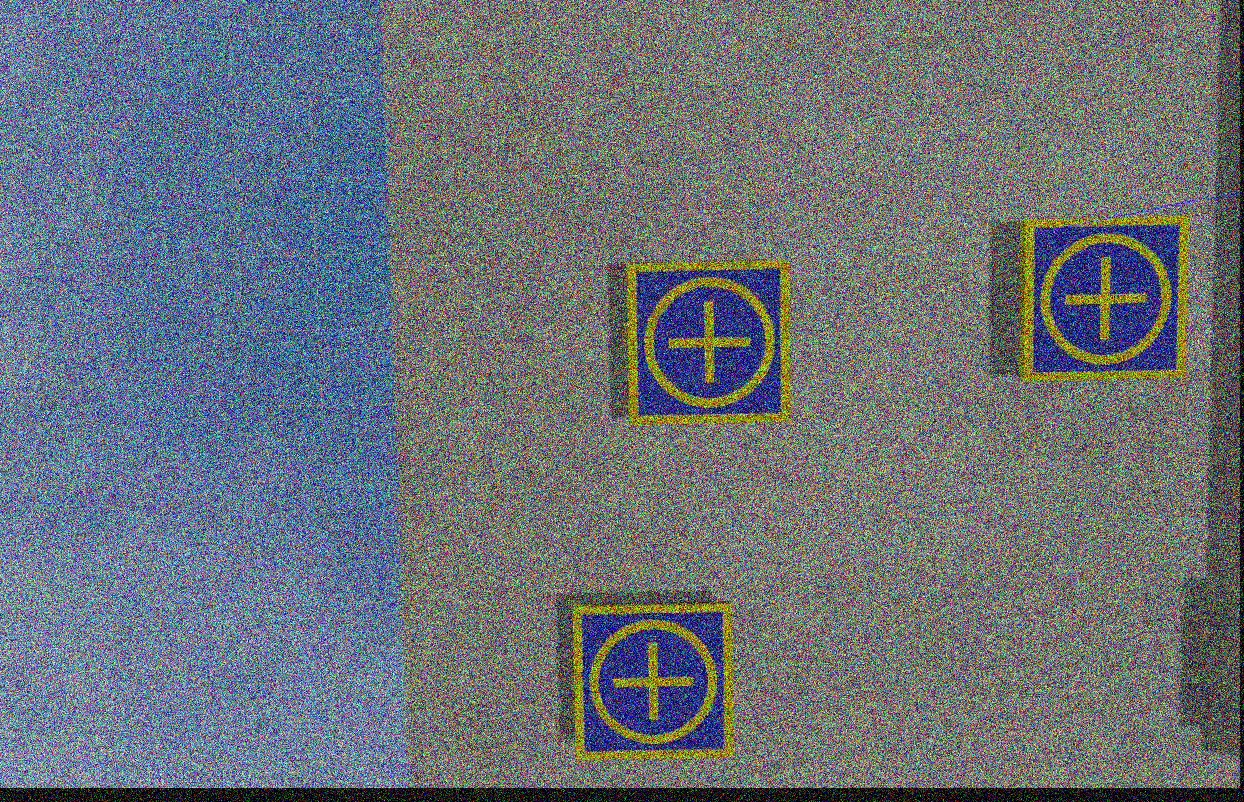small_base: (1019, 214, 1190, 385), (627, 261, 797, 429), (572, 602, 734, 764)
